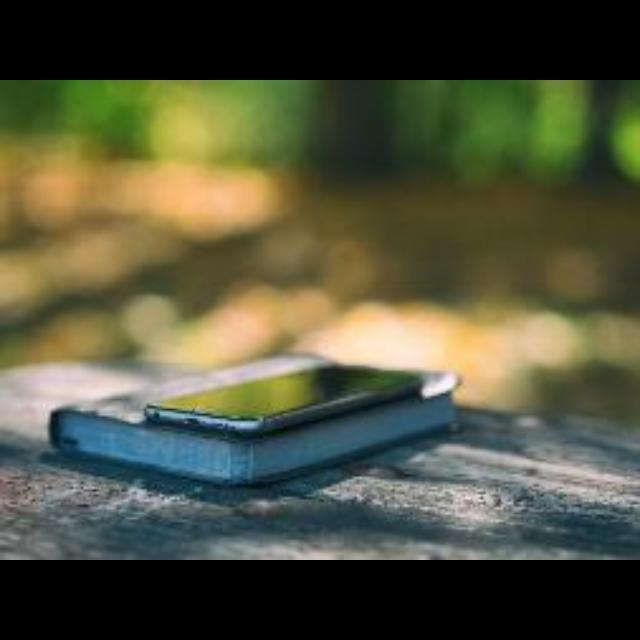PhoneUse: (136, 353, 440, 439)
